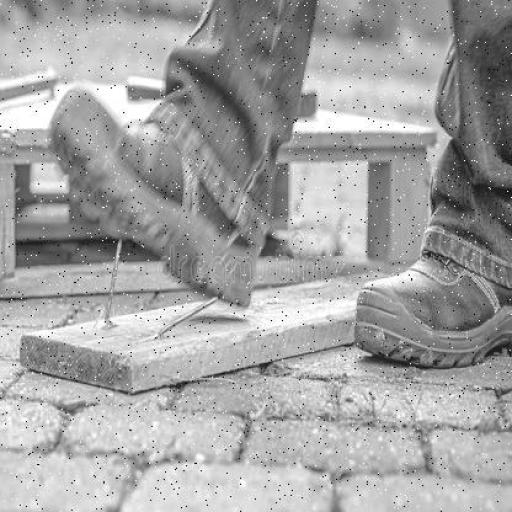safety_shoe: (50, 87, 259, 313), (352, 250, 512, 368)
